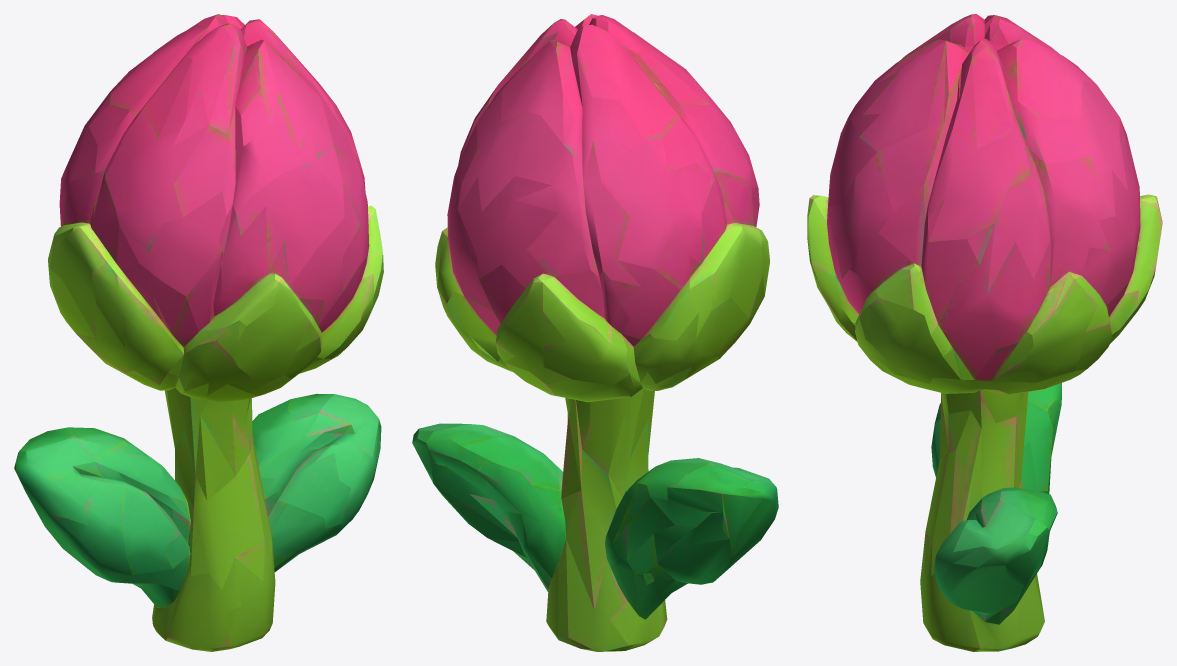
Rendered from bud.glb.
3 views of the same model, side by side, from view 1: azimuth 30°, elevation 25°; view 2: azimuth 150°, elevation 25°; view 3: azimuth 270°, elevation 25° (orthographic). The views are drawn at different scales.
Bounding box in the file's own units: 1.16 × 1.9 × 0.9802.
Materials: 1 (1 with a texture image).
